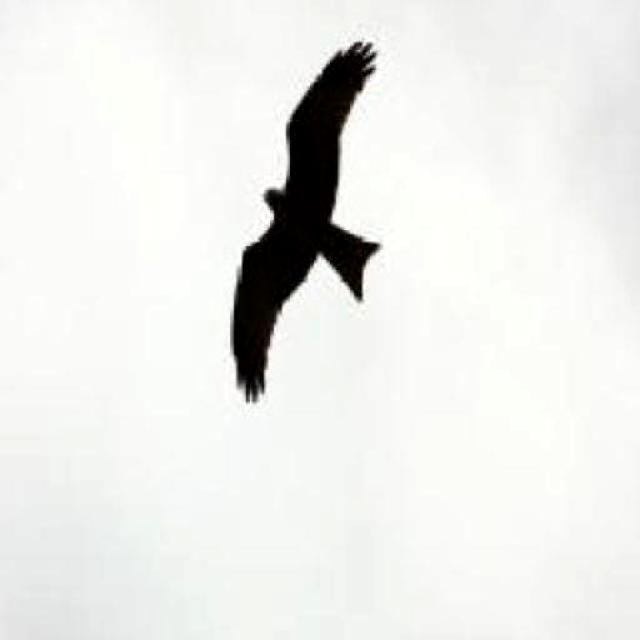airplane: (234, 38, 382, 404)
